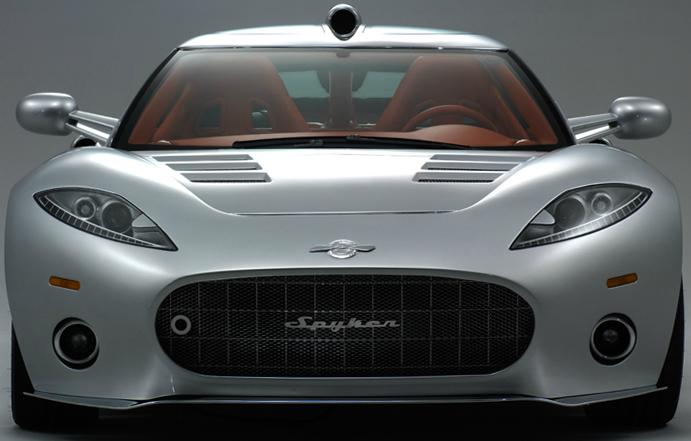front_view: (16, 143, 651, 406)
headlight: (31, 175, 184, 264)
